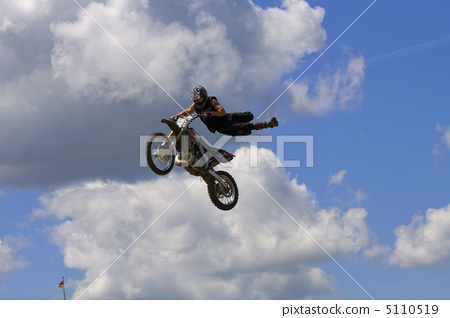helmet: (185, 84, 207, 104)
